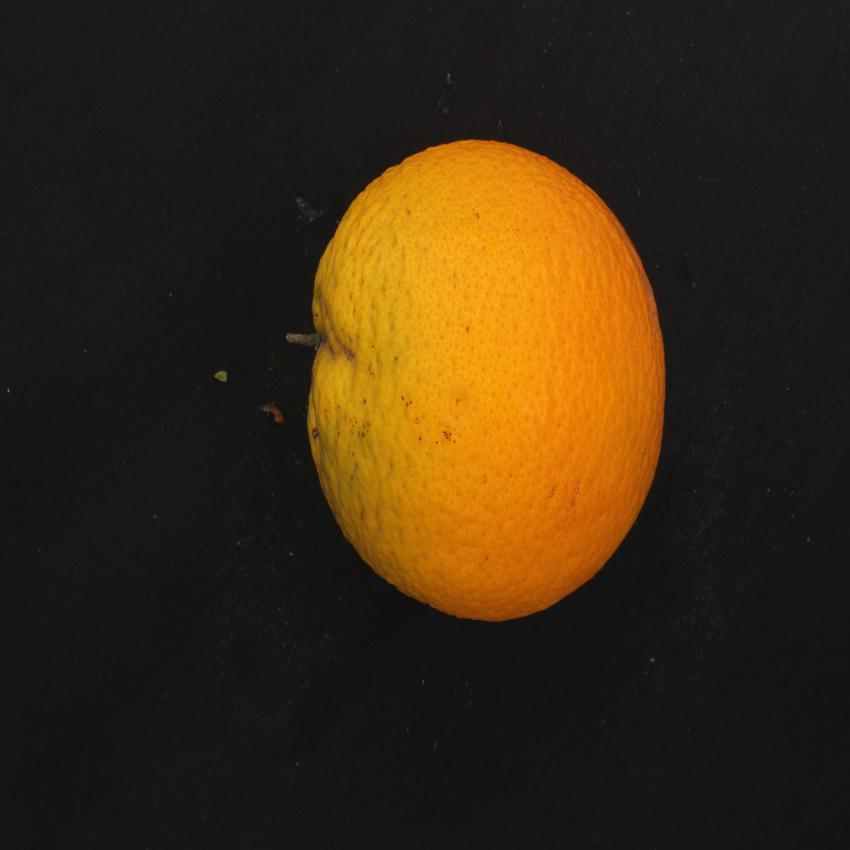Buen estado: (299, 128, 671, 641)
